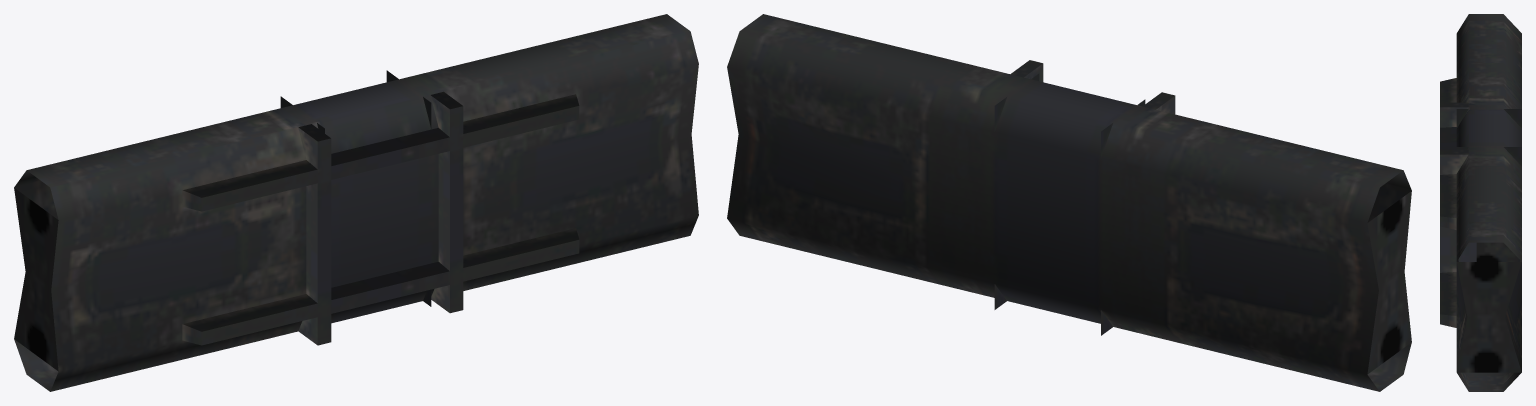
The picture shows the model from 3 angles, left to right: view 1: azimuth 30°, elevation 25°; view 2: azimuth 150°, elevation 25°; view 3: azimuth 270°, elevation 25°; orthographic projection. The views are drawn at different scales.
Parts seen in each view (by area): view 1: set_0_group_0; view 2: set_0_group_0; view 3: set_0_group_0.
Boxes of the visible parts, box(x1,y1,x2,y2) form: set_0_group_0: box(14, 14, 698, 391); set_0_group_0: box(727, 14, 1411, 391); set_0_group_0: box(1440, 14, 1521, 391).
Size of the model in its own units: 0.4878 by 0.1488 by 0.0737.
1 material, 1 textured.
